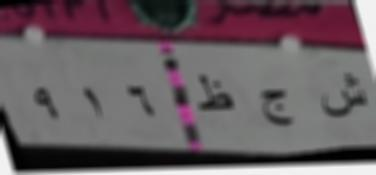1: (83, 79, 107, 132)
6: (118, 75, 157, 120)
9: (32, 84, 63, 120)
Thaa: (190, 68, 238, 118)
jeem: (254, 77, 294, 128)
sheen: (318, 68, 370, 127)
